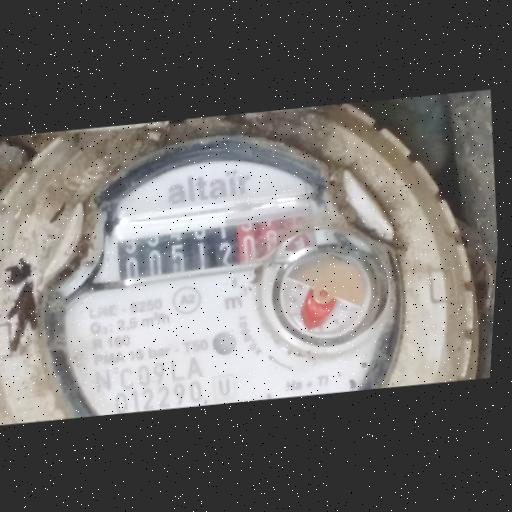0: (137, 234, 170, 277), (233, 221, 265, 265), (116, 238, 144, 281)
1: (185, 227, 218, 272)
2: (208, 224, 242, 269)
4: (277, 214, 310, 244)
5: (161, 230, 193, 274)
8: (257, 219, 286, 261)
border_water_meter_number: (111, 206, 317, 287)
